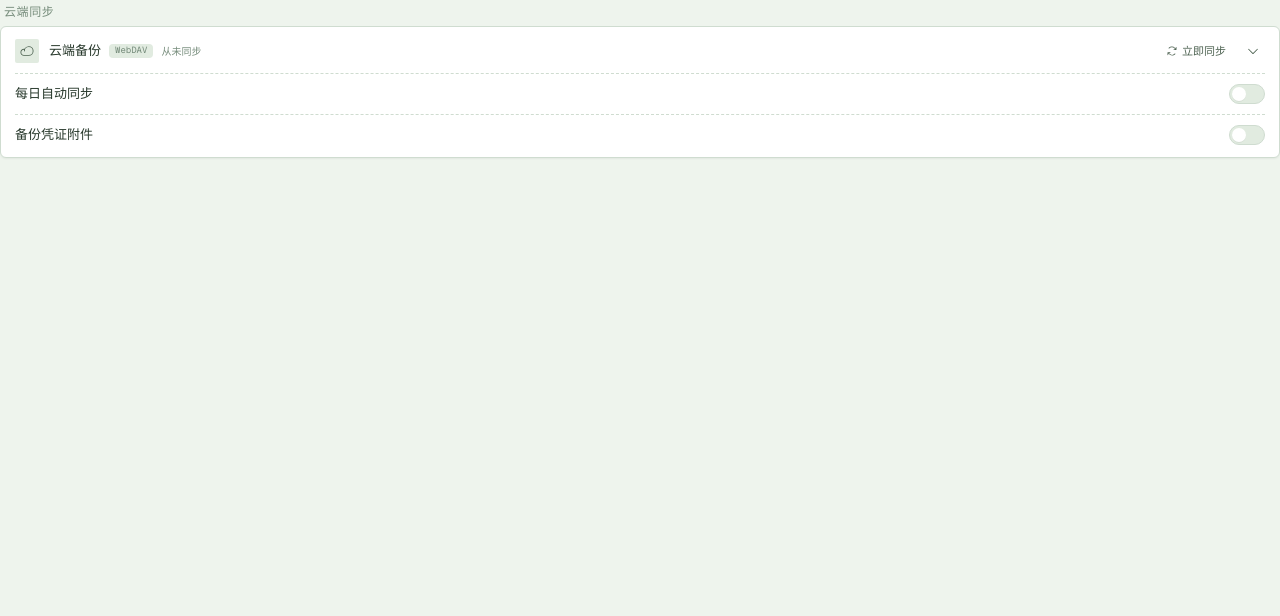
Scenario: WebDavSyncSection › toggles password visibility when clicking eye button
Click the button named "展开配置": (1253, 51) [1241,39,1265,63]
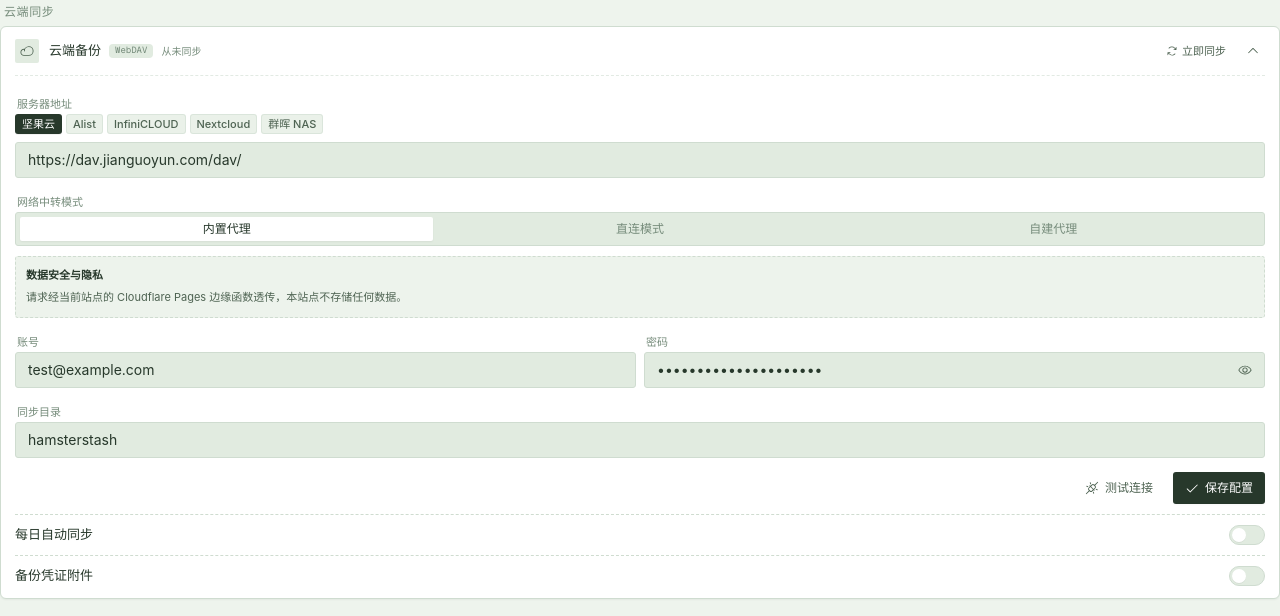
Click the button named "显示密码": (1245, 370) [1234,359,1256,381]
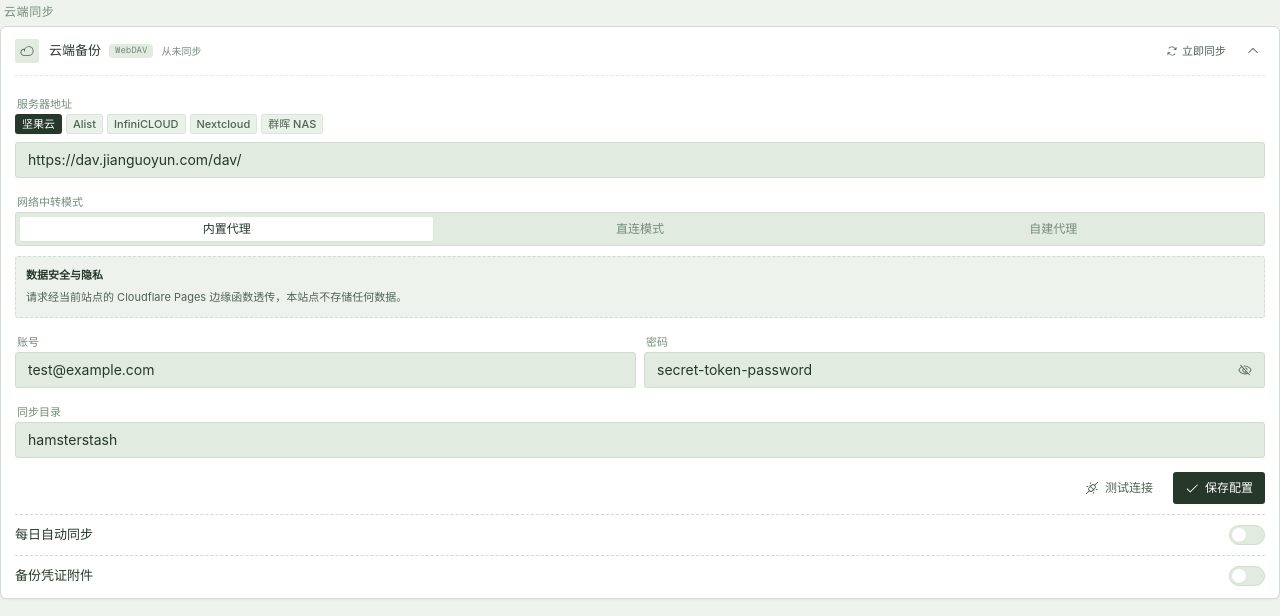
Now the field with placeholder "密码" below "密码" shows its text, box [657,360,1226,380]
Now the button named "隐藏密码" is shown
Click the button named "隐藏密码": (1245, 370) [1234,359,1256,381]
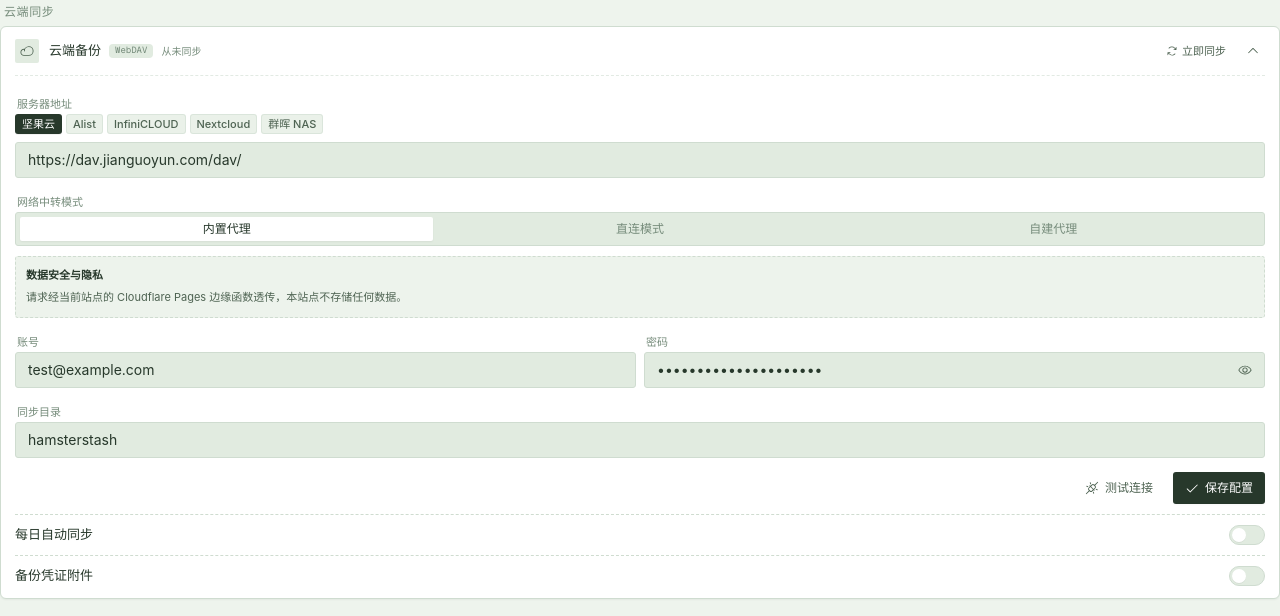
Now the password field with placeholder "密码" hides its text, box [657,360,1226,380]
